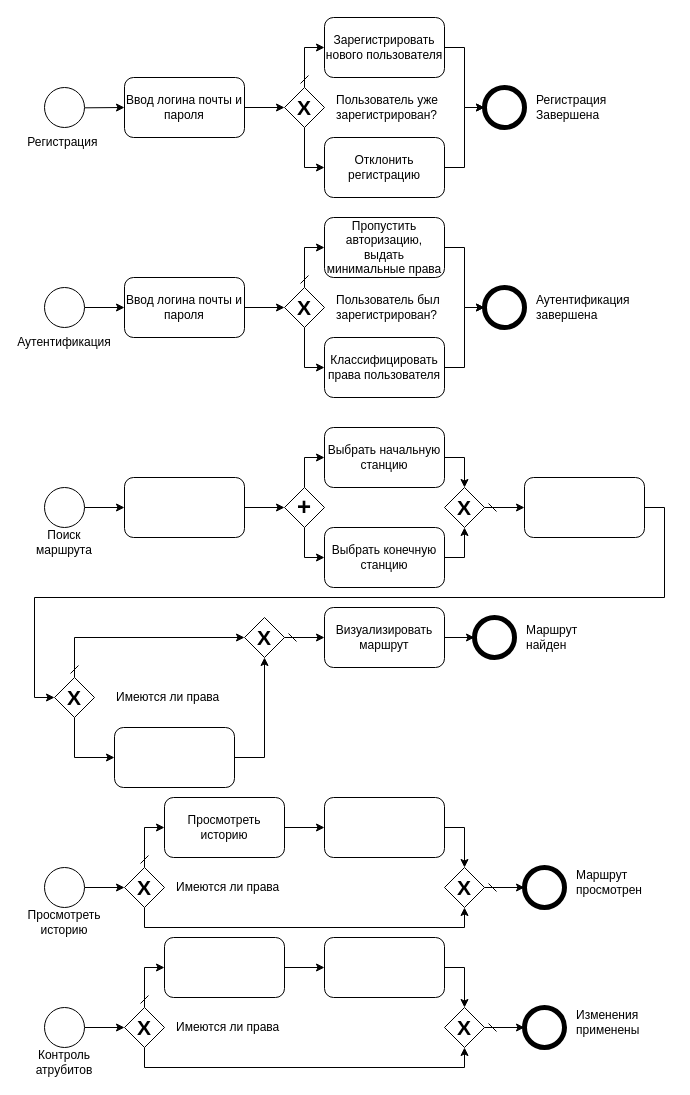
Some shapes in this 690 by 1095 pixel diagram are drawn without their labels. Each missing label, with the centre of its shape:
Визаулизировать историю: (384,827)
Выбрать схему метро: (184,507)
Изменить атрибут: (224,967)
Найти оптимальные маршруты: (584,507)
Подтвердить изменение: (384,967)
Сохранить историю: (174,757)
